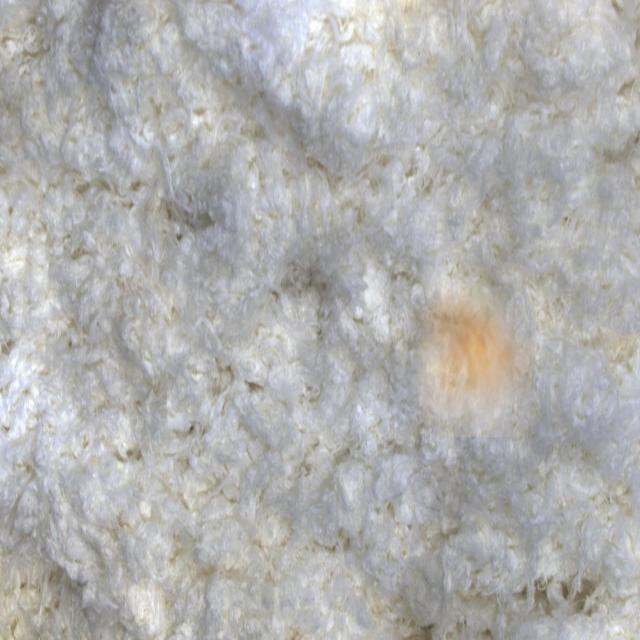dust: (414, 282, 536, 437)
